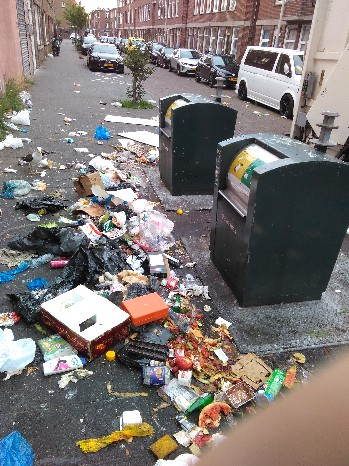Container: (221, 127, 333, 302), (154, 87, 217, 182)
GFT: (176, 332, 233, 391), (200, 404, 245, 442)
Glas: (141, 217, 181, 251)
Papier: (49, 291, 124, 351)
Plastic: (71, 243, 144, 285), (68, 205, 122, 241), (32, 227, 72, 261), (88, 175, 133, 205), (105, 144, 150, 174), (132, 338, 162, 364)
Rest: (129, 297, 170, 328)
